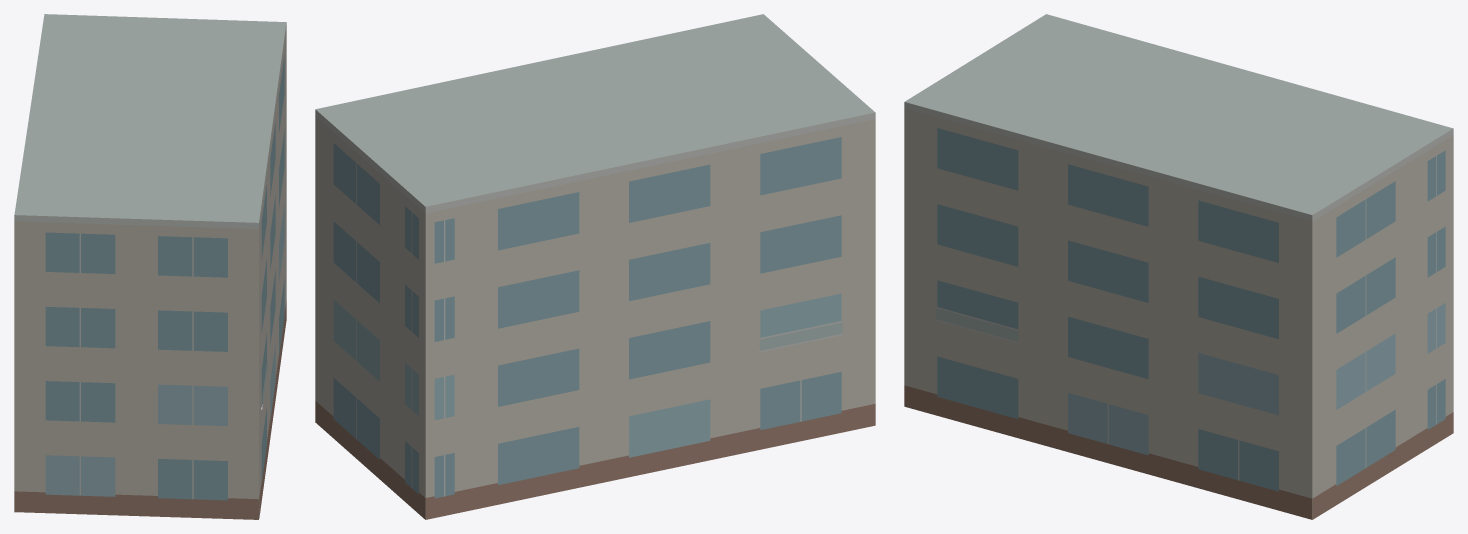
File: survey-upis-32985336.glb
The picture shows the model from 3 angles, left to right: view 1: azimuth 30°, elevation 25°; view 2: azimuth 150°, elevation 25°; view 3: azimuth 270°, elevation 25°; orthographic projection. The views are drawn at different scales.
Visible parts, largest first — view 1: survey-upis-32985336.tmp; view 2: survey-upis-32985336.tmp; view 3: survey-upis-32985336.tmp.
Boxes of the visible parts, box(x1,y1,x2,y2) form: survey-upis-32985336.tmp: box(14, 14, 286, 519); survey-upis-32985336.tmp: box(315, 14, 875, 519); survey-upis-32985336.tmp: box(904, 14, 1453, 519).
Size of the model in its own units: 16.58 by 11.7 by 19.12.
